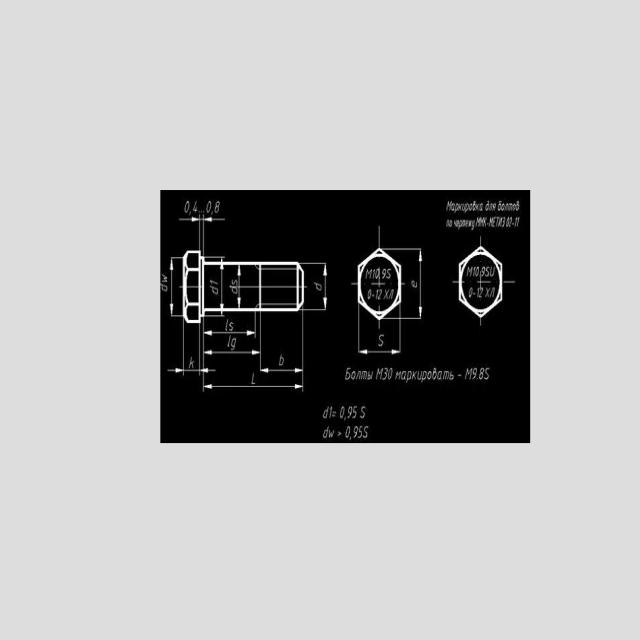marking_line: (202, 317, 261, 371), (259, 313, 305, 374), (168, 324, 217, 373), (201, 373, 304, 392), (357, 320, 403, 355), (402, 246, 423, 321), (179, 217, 226, 250), (203, 318, 257, 339), (305, 262, 328, 311), (170, 255, 183, 317), (220, 259, 224, 315), (238, 265, 242, 308), (478, 367, 484, 380), (472, 368, 478, 380), (485, 367, 490, 380)
numeric: (188, 355, 195, 370), (229, 338, 237, 351), (313, 281, 323, 291), (378, 334, 385, 347), (279, 352, 285, 367), (352, 406, 358, 420), (383, 367, 389, 381), (210, 286, 219, 295), (345, 426, 351, 439), (206, 201, 212, 213), (215, 201, 221, 213), (209, 278, 218, 286), (386, 268, 392, 280), (185, 200, 190, 214), (489, 266, 495, 277), (339, 406, 344, 419), (358, 426, 363, 439), (161, 274, 168, 283), (224, 319, 229, 331), (251, 373, 256, 385), (347, 407, 352, 419), (352, 426, 357, 438), (388, 368, 393, 380), (228, 322, 234, 331), (227, 335, 231, 348), (468, 287, 473, 297), (485, 267, 490, 277), (231, 279, 238, 286), (161, 284, 167, 292), (193, 201, 197, 213), (329, 406, 333, 418), (412, 280, 417, 289), (479, 288, 484, 297), (379, 289, 383, 300), (505, 216, 509, 227), (368, 290, 372, 300), (375, 269, 379, 279), (382, 268, 386, 278), (232, 288, 238, 294), (509, 217, 513, 226), (376, 289, 379, 300), (473, 266, 476, 277), (481, 265, 484, 276), (517, 216, 520, 227), (476, 266, 479, 276), (514, 217, 517, 227), (477, 288, 480, 297), (372, 268, 374, 281)
special_symbol: (456, 371, 463, 378), (337, 430, 341, 437), (332, 411, 336, 417)
